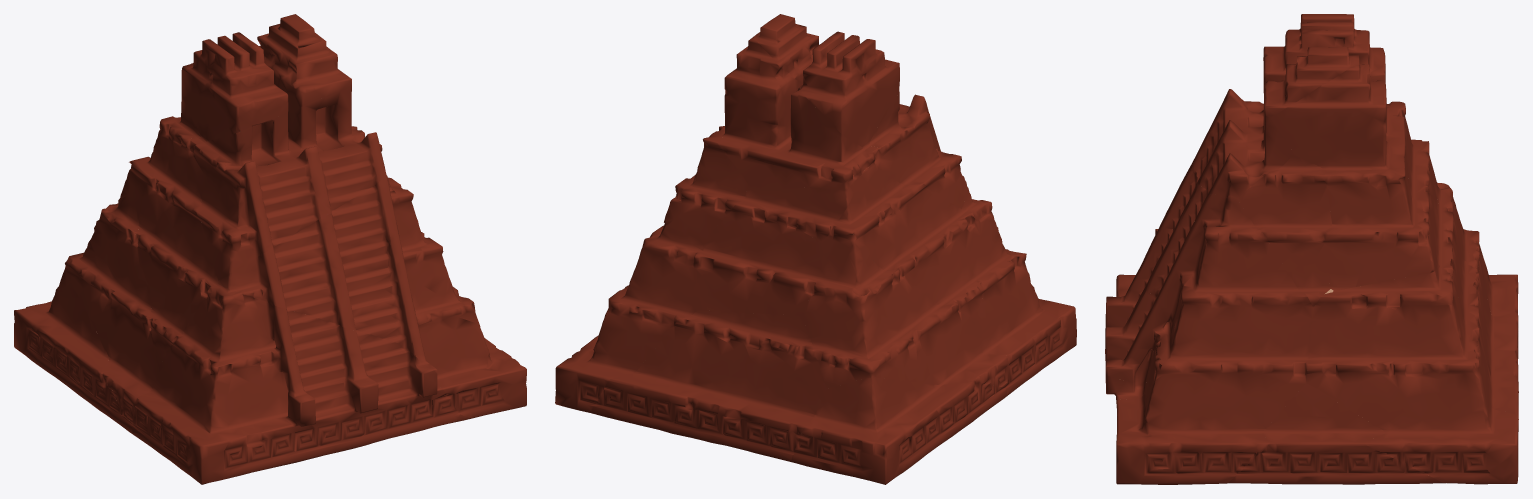
The model's file is rook.glb.
3 renders of one model, left to right at view 1: azimuth 30°, elevation 25°; view 2: azimuth 150°, elevation 25°; view 3: azimuth 270°, elevation 25°, orthographic. The views are drawn at different scales.
Parts seen in each view (by area): view 1: chunk_02, chunk_10, chunk_12, chunk_15, chunk_18, chunk_09, chunk_07, chunk_16, chunk_08, chunk_03; view 2: chunk_04, chunk_09, chunk_16, chunk_03, chunk_18, chunk_01, chunk_06, chunk_02, chunk_07, chunk_10, chunk_13, chunk_11 (+1 smaller); view 3: chunk_12, chunk_01, chunk_13, chunk_00, chunk_03, chunk_14, chunk_10, chunk_04, chunk_02, chunk_07, chunk_08, chunk_15 (+4 smaller).
Part boxes in pixels (x1,y1,x2,y2): chunk_02: (132, 284, 459, 484); chunk_10: (188, 86, 385, 280); chunk_12: (382, 172, 526, 418); chunk_15: (217, 181, 399, 343); chunk_18: (128, 148, 217, 367); chunk_09: (65, 173, 158, 424); chunk_07: (181, 32, 288, 147); chunk_16: (14, 269, 132, 434); chunk_08: (257, 14, 351, 110); chunk_03: (158, 33, 339, 148); chunk_04: (590, 309, 826, 461); chunk_09: (802, 244, 1009, 388); chunk_16: (790, 377, 1007, 484); chunk_03: (717, 36, 874, 189); chunk_18: (823, 169, 984, 329); chunk_01: (555, 224, 703, 412); chunk_06: (695, 201, 823, 315); chunk_02: (964, 199, 1076, 395); chunk_07: (799, 31, 899, 160); chunk_10: (869, 92, 968, 208); chunk_13: (664, 126, 747, 240); chunk_11: (742, 161, 878, 242); chunk_12: (1106, 193, 1313, 484); chunk_01: (1306, 259, 1518, 484); chunk_13: (1321, 168, 1436, 296); chunk_00: (1228, 383, 1444, 484); chunk_03: (1271, 65, 1408, 183); chunk_14: (1238, 154, 1332, 307); chunk_10: (1189, 79, 1293, 198); chunk_04: (1458, 245, 1518, 447); chunk_02: (1105, 219, 1173, 407); chunk_07: (1263, 14, 1385, 90); chunk_08: (1264, 47, 1369, 117); chunk_15: (1145, 169, 1207, 295).
Bounding box in the file's own units: 0.7629 × 0.7784 × 0.7828.
